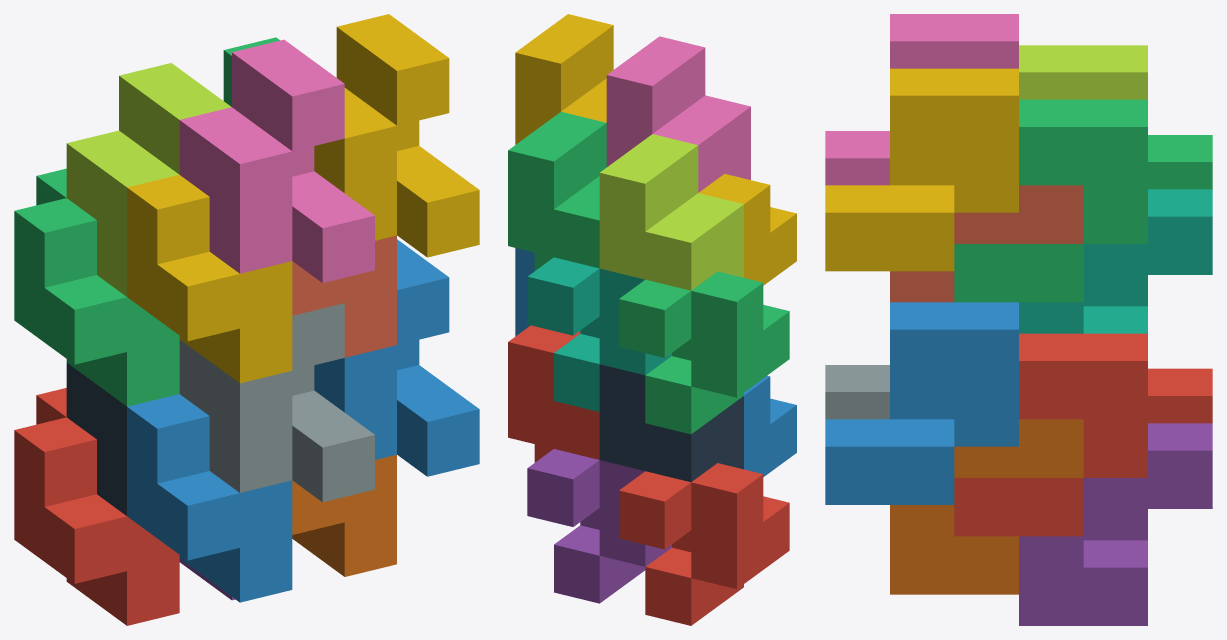
Rendered from tiling.obj.
3 renders of one model, left to right at view 1: azimuth 30°, elevation 25°; view 2: azimuth 150°, elevation 25°; view 3: azimuth 270°, elevation 25°, orthographic. The views are drawn at different scales.
Parts seen in each view (by area): view 1: copy_2_domain_4, copy_2_domain_8, copy_2_domain_2, copy_1_domain_2, copy_1_domain_4, copy_1_domain_3, copy_1_domain_1, copy_2_domain_6, copy_2_domain_3, copy_1_domain_6, copy_1_domain_8, copy_2_domain_1 (+1 smaller); view 2: copy_1_domain_1, copy_1_domain_3, copy_2_domain_3, copy_2_domain_4, copy_2_domain_7, copy_1_domain_5, copy_1_domain_7, copy_2_domain_1, copy_2_domain_8, copy_2_domain_5, copy_1_domain_4, copy_1_domain_2 (+1 smaller); view 3: copy_2_domain_8, copy_2_domain_6, copy_2_domain_5, copy_2_domain_7, copy_1_domain_5, copy_1_domain_6, copy_1_domain_7, copy_2_domain_4, copy_1_domain_8, copy_2_domain_3, copy_1_domain_1, copy_1_domain_3 (+1 smaller).
Boxes of the visible parts, left/top/right/bottom form: copy_2_domain_4: left=179, top=39, right=374, bottom=282; copy_2_domain_8: left=314, top=14, right=479, bottom=257; copy_2_domain_2: left=179, top=303, right=374, bottom=502; copy_1_domain_2: left=127, top=394, right=292, bottom=602; copy_1_domain_4: left=127, top=174, right=292, bottom=383; copy_1_domain_3: left=14, top=168, right=179, bottom=406; copy_1_domain_1: left=14, top=388, right=179, bottom=625; copy_2_domain_6: left=314, top=239, right=479, bottom=476; copy_2_domain_3: left=66, top=63, right=231, bottom=296; copy_1_domain_6: left=292, top=455, right=396, bottom=576; copy_1_domain_8: left=292, top=235, right=396, bottom=357; copy_2_domain_1: left=66, top=363, right=126, bottom=515; copy_1_domain_1: left=619, top=463, right=789, bottom=625; copy_1_domain_3: left=619, top=271, right=789, bottom=434; copy_2_domain_3: left=599, top=134, right=743, bottom=290; copy_2_domain_4: left=606, top=36, right=750, bottom=192; copy_2_domain_7: left=508, top=112, right=606, bottom=270; copy_1_domain_5: left=527, top=449, right=671, bottom=603; copy_1_domain_7: left=527, top=257, right=671, bottom=411; copy_2_domain_1: left=599, top=364, right=743, bottom=482; copy_2_domain_8: left=515, top=14, right=613, bottom=144; copy_2_domain_5: left=508, top=325, right=599, bottom=462; copy_1_domain_4: left=699, top=174, right=796, bottom=285; copy_1_domain_2: left=744, top=375, right=796, bottom=476; copy_2_domain_8: left=825, top=68, right=1018, bottom=271; copy_2_domain_6: left=825, top=302, right=1018, bottom=504; copy_2_domain_5: left=954, top=333, right=1147, bottom=536; copy_2_domain_7: left=954, top=99, right=1147, bottom=302; copy_1_domain_5: left=1019, top=423, right=1212, bottom=625; copy_1_domain_6: left=890, top=419, right=1083, bottom=594; copy_1_domain_7: left=1019, top=189, right=1212, bottom=333; copy_2_domain_4: left=825, top=14, right=1018, bottom=185; copy_1_domain_8: left=890, top=185, right=1083, bottom=302; copy_2_domain_3: left=1019, top=45, right=1147, bottom=99; copy_1_domain_1: left=1148, top=368, right=1212, bottom=423; copy_1_domain_3: left=1148, top=135, right=1212, bottom=189.
Bounding box in the file's own units: 6 × 10 × 6.
